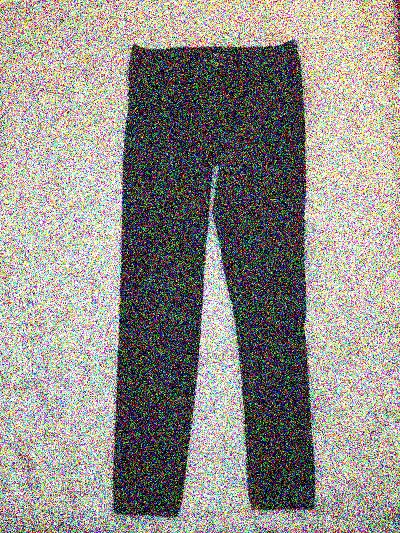Pants: (92, 30, 345, 516)
